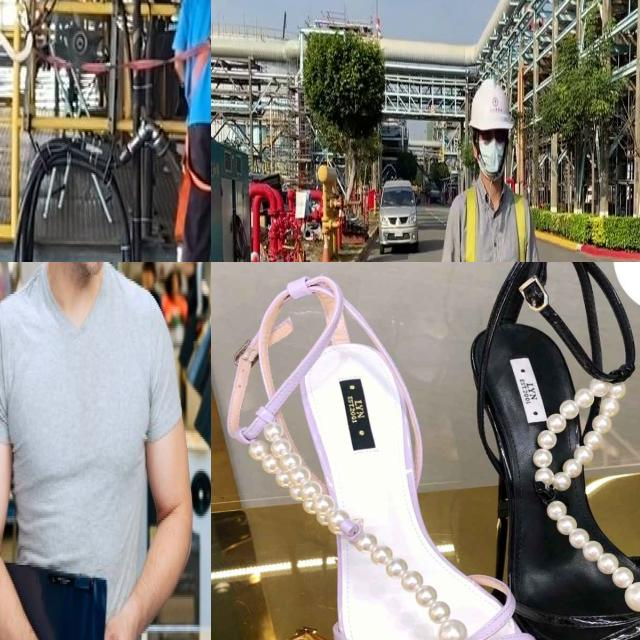Harness: (185, 0, 211, 197), (464, 185, 479, 262)
Sandals: (211, 262, 565, 640), (465, 262, 640, 640)
person: (0, 262, 196, 640)
